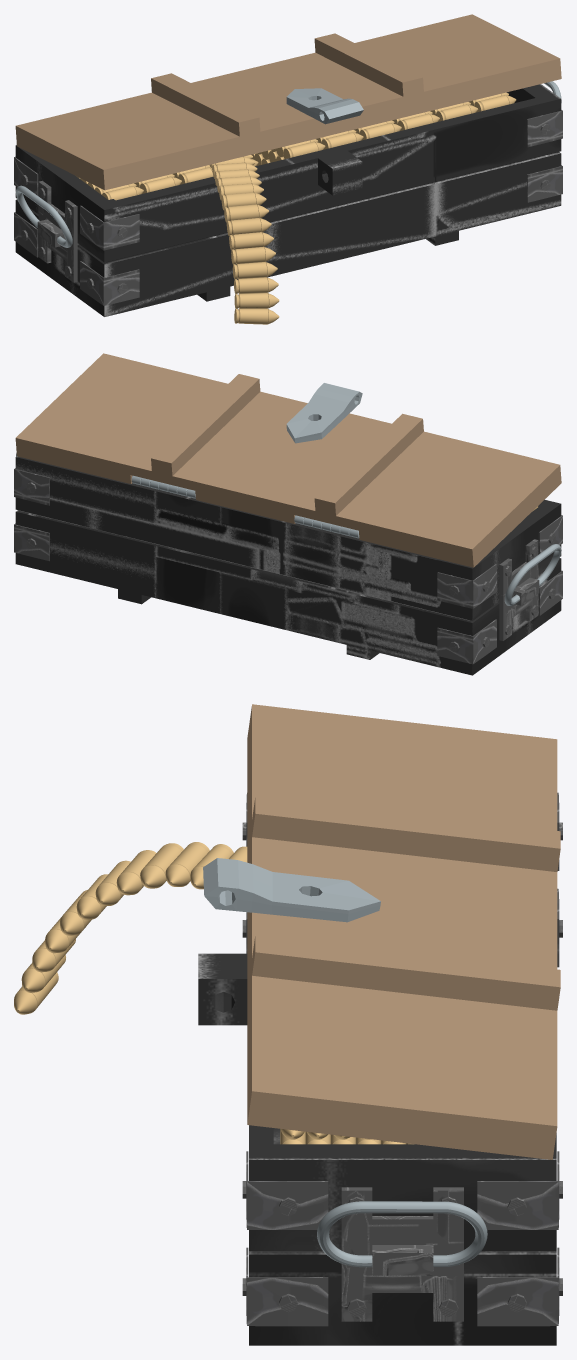
The model's file is Ammo box.fbx.
3 renders of one model, top to bottom at view 1: azimuth 30°, elevation 25°; view 2: azimuth 150°, elevation 25°; view 3: azimuth 270°, elevation 25°, orthographic. The views are drawn at different scales.
Parts seen in each view (by area): view 1: Cube, Cube.001, Cylinder.001, Cube.002, Cylinder.003, Cube.003, Cube.004, Cylinder.005, Torus; view 2: Cube.001, Cube, Cube.002, Cube.004, Cube.003, Cylinder, Torus; view 3: Cube.001, Cube, Cube.002, Cube.003, Cylinder.001, Cube.004, Torus, Cylinder.003, Cube.005.
Part boxes in pixels (bbox=[...]): Cube: bbox=[15, 84, 561, 316]; Cube.001: bbox=[15, 14, 561, 190]; Cylinder.001: bbox=[209, 155, 279, 324]; Cube.002: bbox=[14, 110, 562, 305]; Cylinder.003: bbox=[251, 92, 516, 165]; Cube.003: bbox=[37, 180, 78, 282]; Cube.004: bbox=[286, 88, 363, 124]; Cylinder.005: bbox=[76, 159, 258, 200]; Torus: bbox=[15, 81, 561, 247]; Cube.001: bbox=[15, 353, 561, 567]; Cube: bbox=[15, 456, 561, 675]; Cube.002: bbox=[14, 468, 562, 664]; Cube.004: bbox=[286, 383, 362, 443]; Cube.003: bbox=[498, 539, 539, 640]; Cylinder: bbox=[131, 475, 359, 538]; Torus: bbox=[16, 453, 561, 605]; Cube.001: bbox=[247, 704, 560, 1159]; Cube: bbox=[198, 953, 556, 1345]; Cube.002: bbox=[246, 792, 559, 1326]; Cube.003: bbox=[341, 1187, 463, 1321]; Cylinder.001: bbox=[14, 842, 247, 1014]; Cube.004: bbox=[203, 858, 380, 922]; Torus: bbox=[317, 1201, 487, 1267]; Cylinder.003: bbox=[280, 1129, 413, 1144]; Cube.005: bbox=[279, 1197, 526, 1312].
Bounding box in the file's own units: 664 × 213 × 357.
